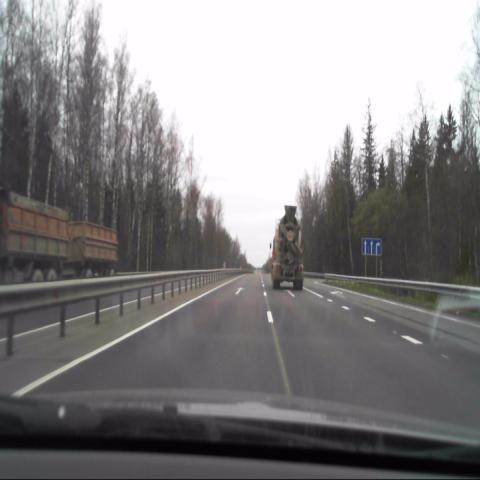5_15_1: (362, 237, 382, 256)
